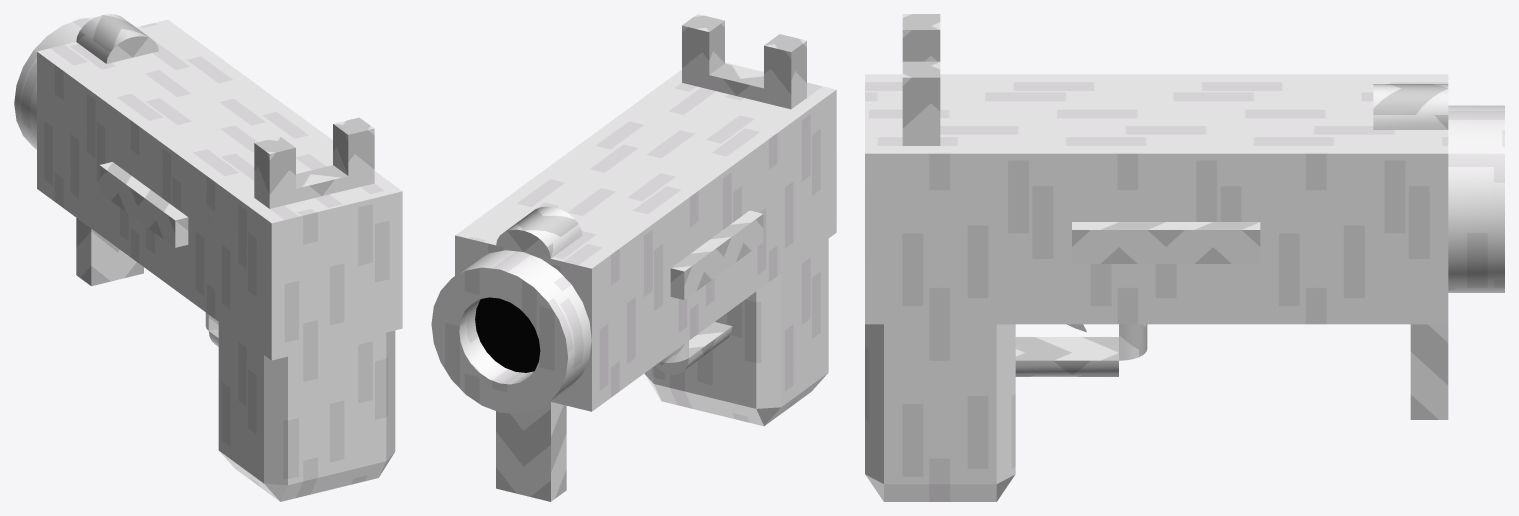
File: Pistol.obj
3 renders of one model, left to right at view 1: azimuth 30°, elevation 25°; view 2: azimuth 150°, elevation 25°; view 3: azimuth 270°, elevation 25°, orthographic. The views are drawn at different scales.
Bounding box in the file's own units: 1.2 × 2.5 × 3.4.
Materials: 4 (3 with a texture image).
